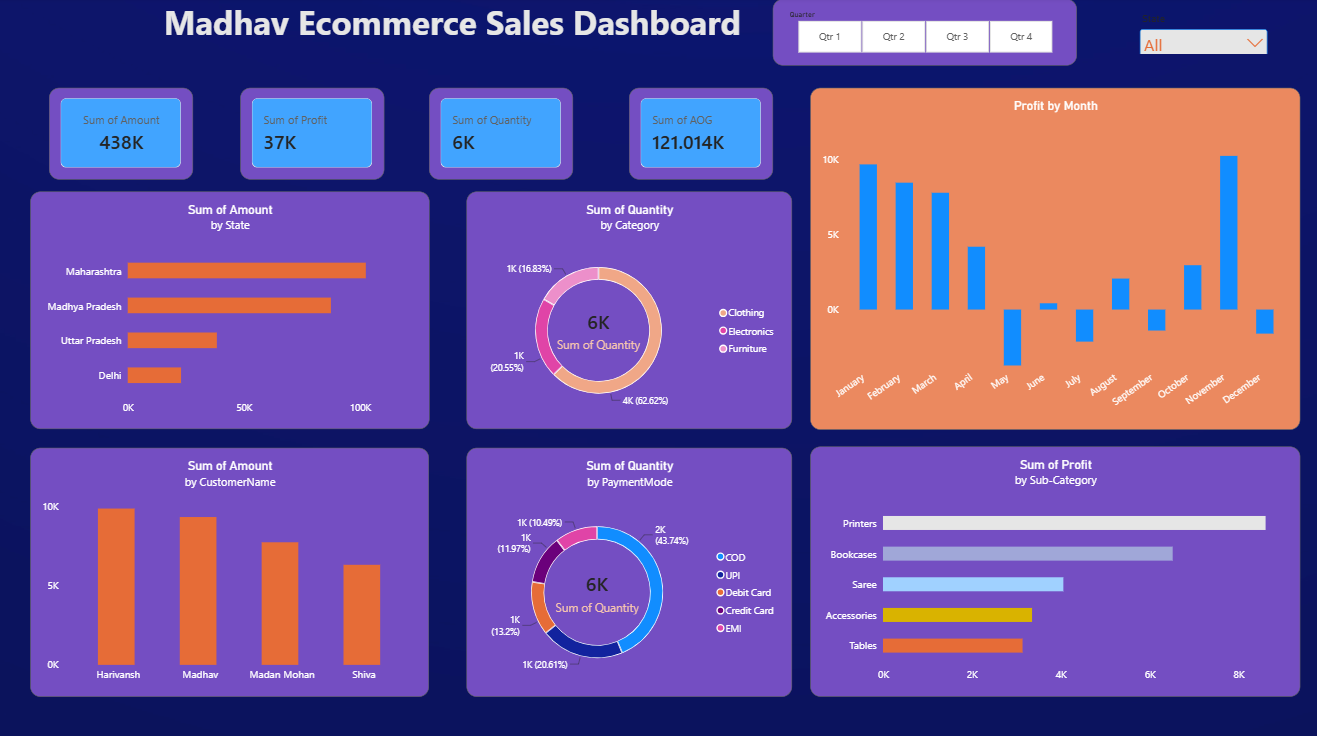

What the dashboard file says about the page in this screenshot:
{"tool":"powerbi","page":{"name":"Page 1","canvas":[1920,1080],"ordinal":0},"visuals":[{"type":"textbox","box":[71.7,0,1176.7,68.3],"z":0},{"type":"columnChart","title":"Profit by Month","fields":{"Category":["Orders.Order Date.Variation.Date Hierarchy.Month"],"Y":["Sum(Details.Profit)"]},"box":[1179.9,128.5,713,497.7],"z":1},{"type":"barChart","fields":{"Category":["Details.Sub-Category"],"Y":["Sum(Details.Profit)"]},"box":[1179.9,651.5,713,363.7],"z":2},{"type":"donutChart","fields":{"Category":["Details.PaymentMode"],"Y":["Sum(Details.Quantity)"]},"box":[679.2,652.5,473.4,362.3],"z":3},{"type":"donutChart","fields":{"Category":["Details.Category"],"Y":["Sum(Details.Quantity)"]},"box":[679.2,279.9,473.4,345.8],"z":4},{"type":"cardVisual","fields":{"Data":["Sum(Details.Amount)"]},"box":[72.4,128.5,209.9,133.9],"z":5},{"type":"cardVisual","fields":{"Data":["Sum(Details.Quantity)"]},"box":[626.1,128.5,209.9,133.9],"z":7},{"type":"cardVisual","fields":{"Data":["Sum(Details.Profit)"]},"box":[351.1,128.5,209.9,133.9],"z":8},{"type":"cardVisual","fields":{"Data":["Sum(Details.AOG)"]},"box":[915.7,128.5,209.9,133.9],"z":9},{"type":"barChart","fields":{"Category":["Orders.State"],"Y":["Sum(Details.Amount)"]},"box":[45.3,279.9,580.4,345.8],"z":10},{"type":"columnChart","fields":{"Category":["Orders.CustomerName"],"Y":["Sum(Details.Amount)"]},"box":[45,652,580,362],"z":11},{"type":"slicer","fields":{"Values":["Orders.Order Date.Variation.Date Hierarchy.Quarter"]},"box":[1125.9,0,442.5,96.7],"z":12},{"type":"slicer","fields":{"Values":["Orders.State"]},"box":[1654.9,20.6,195.5,59.7],"z":13}]}

Visuals, with their boxes in screenshot pixels (x1, y1, x2, y2), scaled from the page's 1920x1080 canvas onto the 1317x736 screenshot:
textbox: x1=49 y1=0 x2=856 y2=47
"Profit by Month" columnChart: x1=809 y1=88 x2=1298 y2=427
barChart - Details.Sub-Category x Sum(Details.Profit): x1=809 y1=444 x2=1298 y2=692
donutChart - Details.PaymentMode x Sum(Details.Quantity): x1=466 y1=445 x2=791 y2=692
donutChart - Details.Category x Sum(Details.Quantity): x1=466 y1=191 x2=791 y2=426
cardVisual - Sum(Details.Amount): x1=50 y1=88 x2=194 y2=179
cardVisual - Sum(Details.Quantity): x1=429 y1=88 x2=573 y2=179
cardVisual - Sum(Details.Profit): x1=241 y1=88 x2=385 y2=179
cardVisual - Sum(Details.AOG): x1=628 y1=88 x2=772 y2=179
barChart - Orders.State x Sum(Details.Amount): x1=31 y1=191 x2=429 y2=426
columnChart - Orders.CustomerName x Sum(Details.Amount): x1=31 y1=444 x2=429 y2=691
slicer - Orders.Order Date.Variation.Date Hierarchy.Quarter: x1=772 y1=0 x2=1076 y2=66
slicer - Orders.State: x1=1135 y1=14 x2=1269 y2=55
